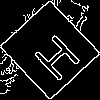H: (24, 25, 84, 84)
